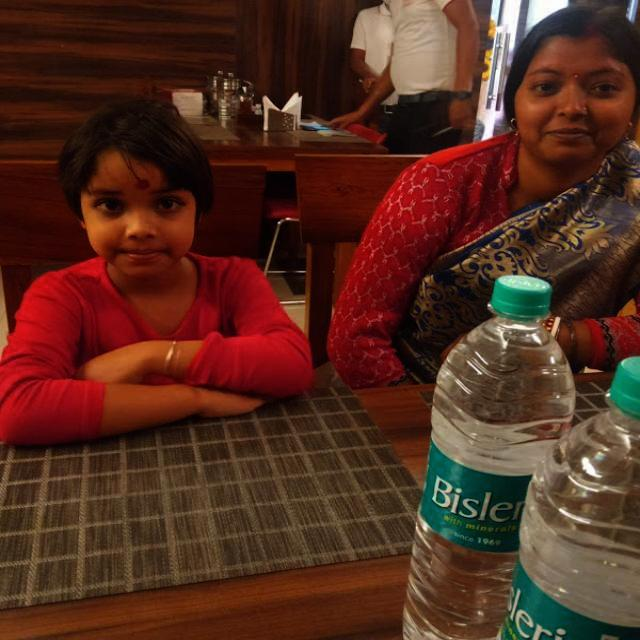bottle: (402, 275, 576, 640), (501, 356, 640, 640)
